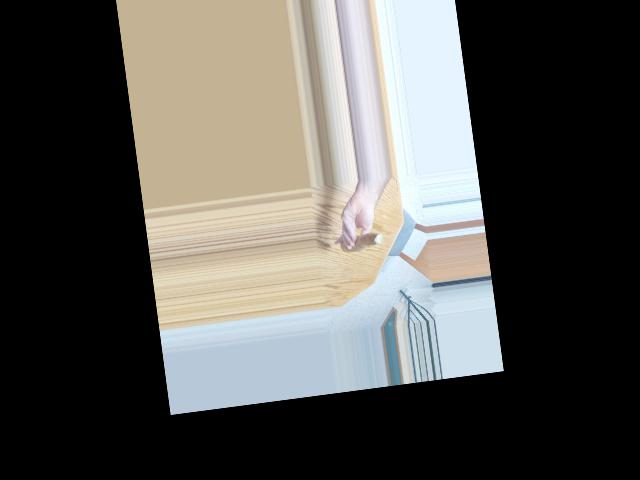sweet_potato: (344, 226, 383, 255)
